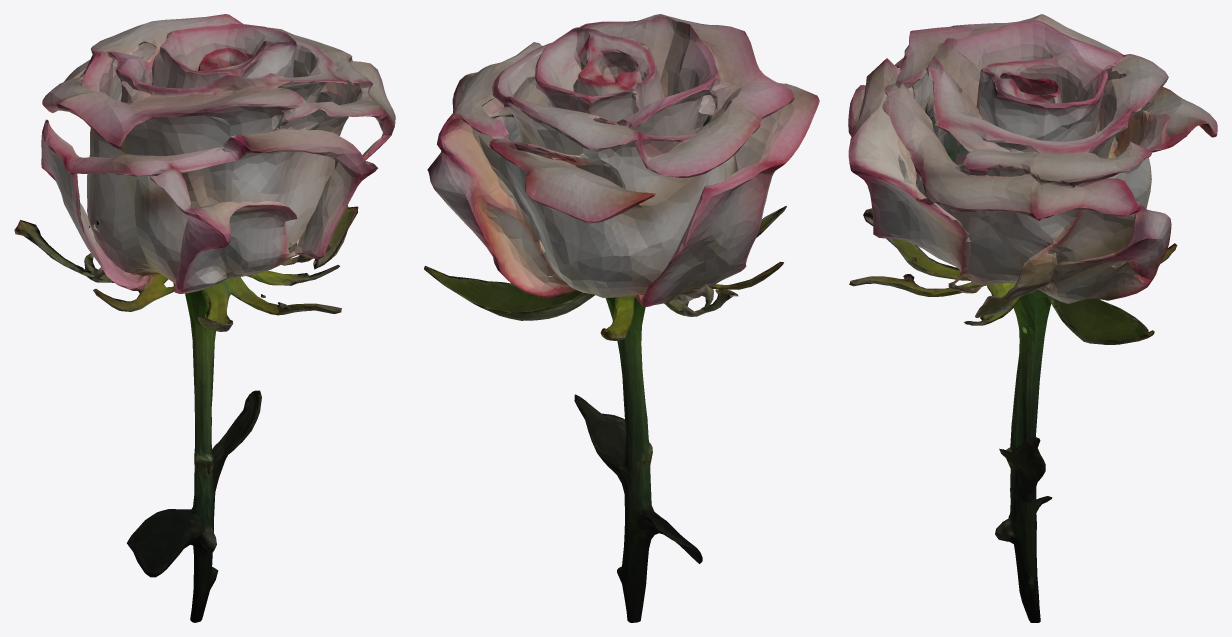
The picture shows the model from 3 angles, left to right: view 1: azimuth 30°, elevation 25°; view 2: azimuth 150°, elevation 25°; view 3: azimuth 270°, elevation 25°; orthographic projection. The views are drawn at different scales.
Visible parts, largest first — view 1: world; view 2: world; view 3: world.
Boxes of the visible parts, left/top/right/bottom form: world: left=14, top=14, right=395, bottom=622; world: left=424, top=14, right=819, bottom=622; world: left=848, top=14, right=1217, bottom=622.
Bounding box in the file's own units: 0.5661 × 0.961 × 0.5572.
Materials: 1 (1 with a texture image).
